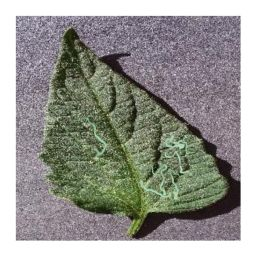liriomyza: (141, 131, 190, 200), (82, 116, 107, 159)
